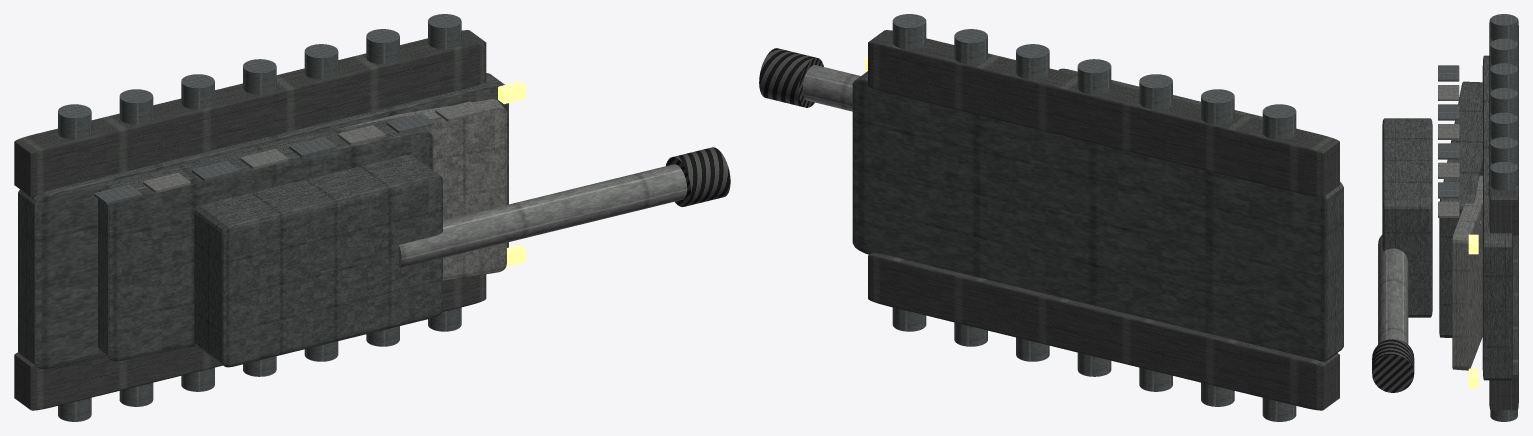
Rendered from c-u07-main-tank-lod0.glb.
3 renders of one model, left to right at view 1: azimuth 30°, elevation 25°; view 2: azimuth 150°, elevation 25°; view 3: azimuth 270°, elevation 25°, orthographic. The views are drawn at different scales.
Parts seen in each view (by area): view 1: tank_turret, chassis_track_1, upper_hull, chassis_lower, tank_main_barrel_0, chassis_glacis, chassis_track_-1, tank_main_muzzle_0, chassis_roadwheel_1_4, chassis_roadwheel_1_1, chassis_roadwheel_1_2, chassis_roadwheel_1_0 (+6 smaller); view 2: chassis_lower, chassis_track_1, chassis_track_-1, tank_main_muzzle_0, tank_main_barrel_0, chassis_roadwheel_1_3, chassis_roadwheel_1_6, chassis_roadwheel_1_0, chassis_roadwheel_1_1, chassis_roadwheel_1_5, chassis_roadwheel_1_2, chassis_roadwheel_1_4 (+7 smaller); view 3: tank_turret, chassis_lower, upper_hull, chassis_glacis, tank_main_barrel_0, tank_main_muzzle_0, chassis_track_1, chassis_track_-1, chassis_roadwheel_1_6, chassis_roadwheel_1_4, chassis_roadwheel_1_1, chassis_roadwheel_1_0 (+14 smaller).
Part boxes in pixels (x1,y1,x2,y2): tank_turret: (194,155,442,367); chassis_track_1: (14,30,486,197); upper_hull: (98,116,433,361); chassis_lower: (18,73,508,368); tank_main_barrel_0: (399,164,687,267); chassis_glacis: (337,99,506,281); chassis_track_-1: (14,274,486,410); tank_main_muzzle_0: (666,147,730,206); chassis_roadwheel_1_4: (304,44,338,79); chassis_roadwheel_1_1: (119,89,153,124); chassis_roadwheel_1_2: (181,74,214,109); chassis_roadwheel_1_0: (58,104,91,139); chassis_lower: (852,71,1343,362); chassis_track_1: (868,30,1339,197); chassis_track_-1: (868,253,1339,410); tank_main_muzzle_0: (759,48,823,107); tank_main_barrel_0: (802,65,860,111); chassis_roadwheel_1_3: (1077,59,1111,94); chassis_roadwheel_1_6: (892,14,926,49); chassis_roadwheel_1_0: (1262,104,1296,139); chassis_roadwheel_1_1: (1201,89,1234,124); chassis_roadwheel_1_5: (954,29,987,64); chassis_roadwheel_1_2: (1139,74,1172,109); chassis_roadwheel_1_4: (1016,44,1049,79); tank_turret: (1382,118,1432,317); chassis_lower: (1482,55,1512,380); upper_hull: (1439,81,1482,337); chassis_glacis: (1452,175,1482,370); tank_main_barrel_0: (1378,235,1408,344); tank_main_muzzle_0: (1372,339,1414,392); chassis_track_1: (1489,18,1518,235); chassis_track_-1: (1489,229,1518,410); chassis_roadwheel_1_6: (1490,162,1517,190); chassis_roadwheel_1_4: (1490,112,1517,139); chassis_roadwheel_1_1: (1490,38,1517,65); chassis_roadwheel_1_0: (1490,14,1517,40).
Size of what is drawn, in the model's own units: 8.79 by 4.06 by 2.17.
Materials: 7 (7 with a texture image).
